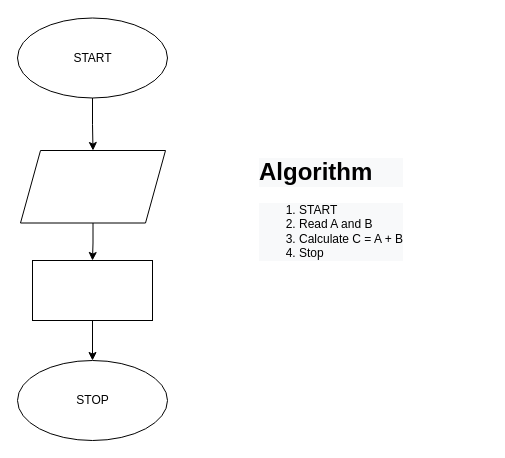
Image size: 505x458. Some labels were removed from this diagram. The shapes that lost their labels are listed below. From the top down, each one's box as (x1, y1, x2, y2) in pixels, then its label:
(20, 150, 166, 223): Read A and B
(32, 260, 152, 320): C = A +B
